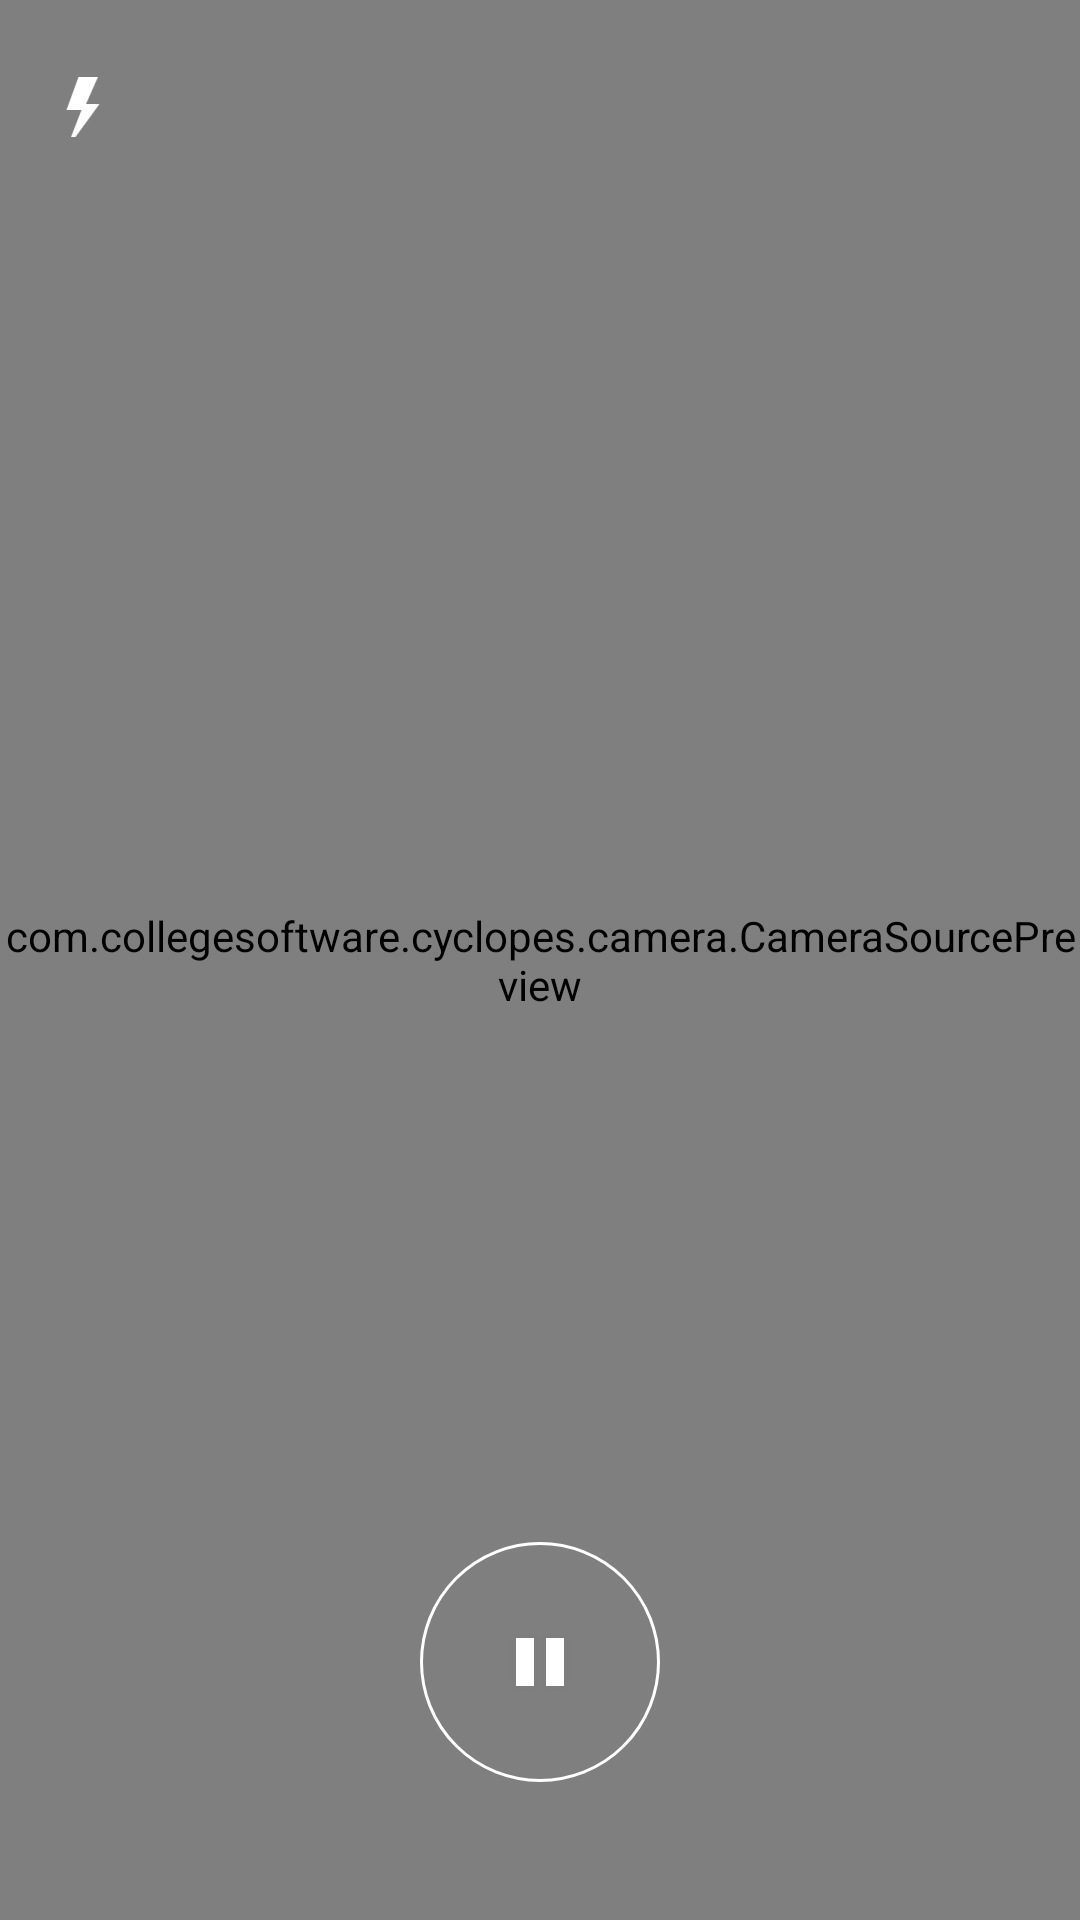

Point at icon controls on the screen. Image size 1080*1920, points as (x,y).
flash: (83,107)
pause: (540,1662)
